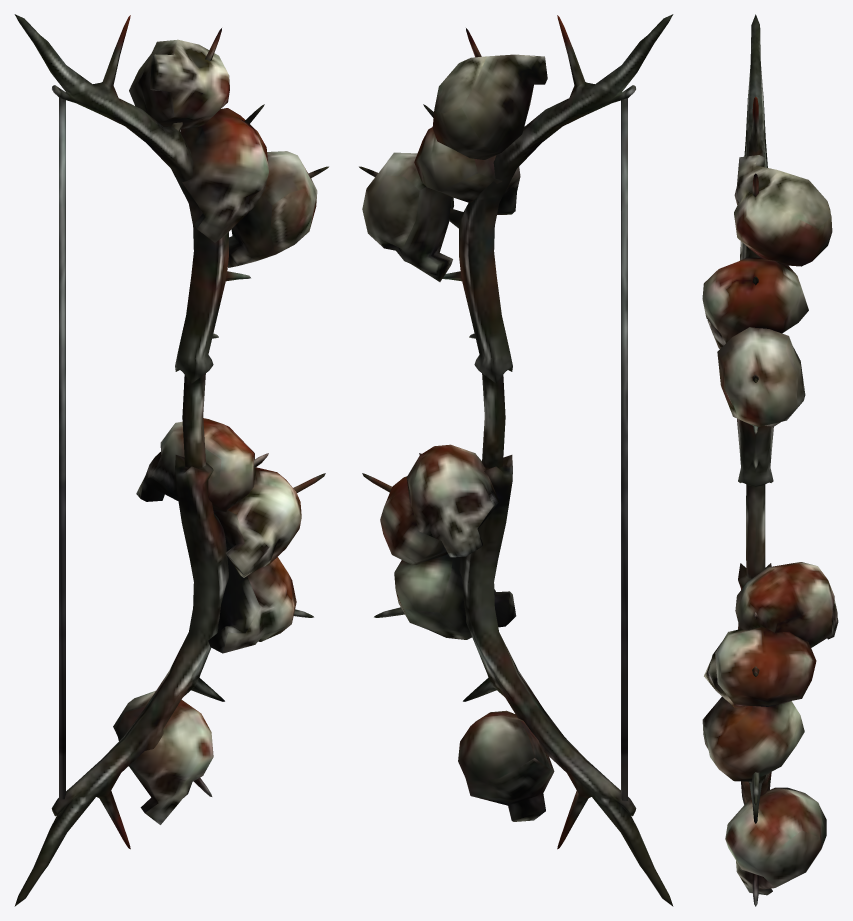
The model's file is weapon-answered-prayer.glb.
3 views of the same model, side by side, from view 1: azimuth 30°, elevation 25°; view 2: azimuth 150°, elevation 25°; view 3: azimuth 270°, elevation 25° (orthographic). The views are drawn at different scales.
Parts seen in each view (by area): view 1: bowE_MDL_q; view 2: bowE_MDL_q; view 3: bowE_MDL_q.
Boxes of the visible parts, <box> form: bowE_MDL_q: <box>14,14,328,906</box>; bowE_MDL_q: <box>359,14,673,906</box>; bowE_MDL_q: <box>702,14,838,906</box>.
Bounding box in the file's own units: 0.7716 × 2.09 × 0.2999.
1 material, 1 textured.
